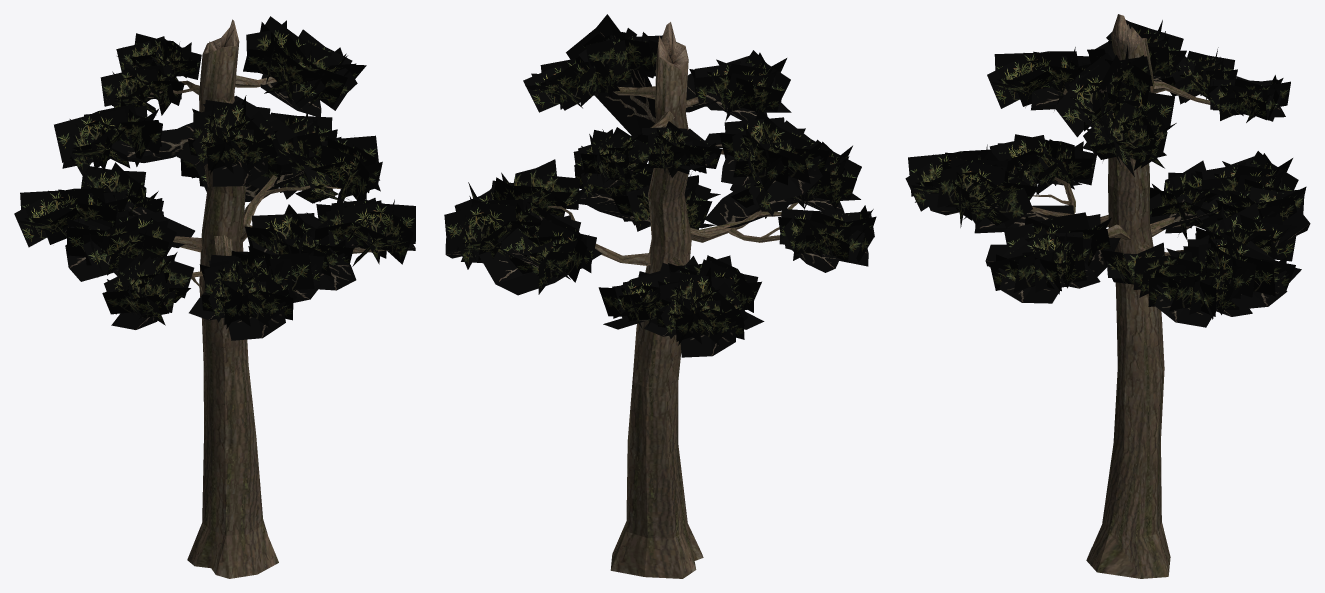
The model's file is bg_anh_tree_pinetree03_sm_ysi.FBX.
3 renders of one model, left to right at view 1: azimuth 30°, elevation 25°; view 2: azimuth 150°, elevation 25°; view 3: azimuth 270°, elevation 25°, orthographic.
Visible parts, largest first — view 1: bg_anh_tree_pinetree03_sm_ysi; view 2: bg_anh_tree_pinetree03_sm_ysi; view 3: bg_anh_tree_pinetree03_sm_ysi.
Part boxes in pixels (x1,y1,x2,y2): bg_anh_tree_pinetree03_sm_ysi: [14, 16, 415, 578]; bg_anh_tree_pinetree03_sm_ysi: [444, 14, 876, 578]; bg_anh_tree_pinetree03_sm_ysi: [905, 14, 1310, 578].
Bounding box in the file's own units: 362 × 540 × 363.
